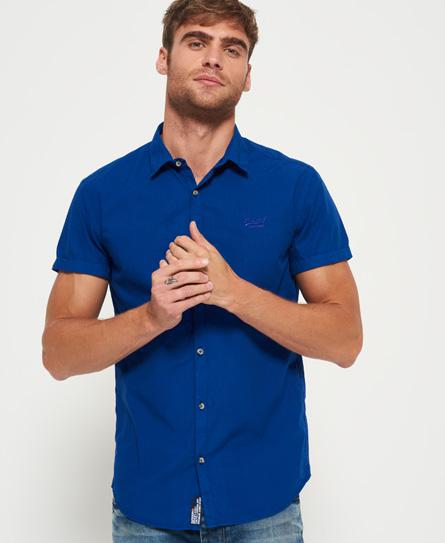teeshirt: (27, 115, 361, 537)
